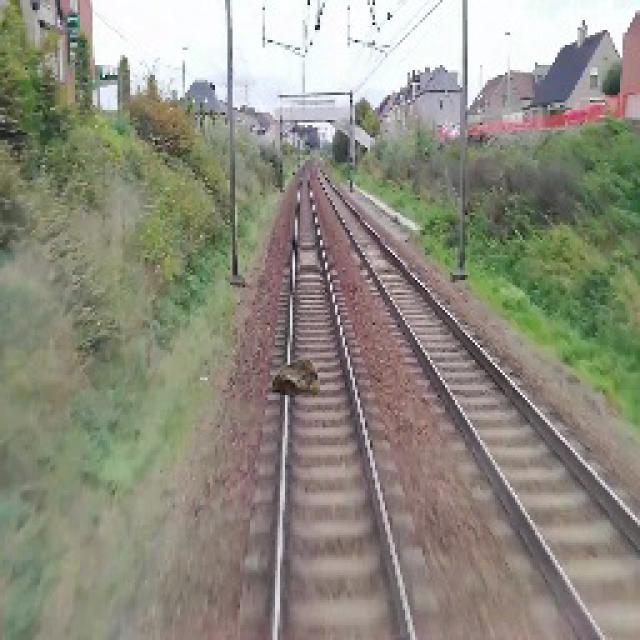danger: (263, 348, 331, 402)
rail: (235, 156, 451, 640)
